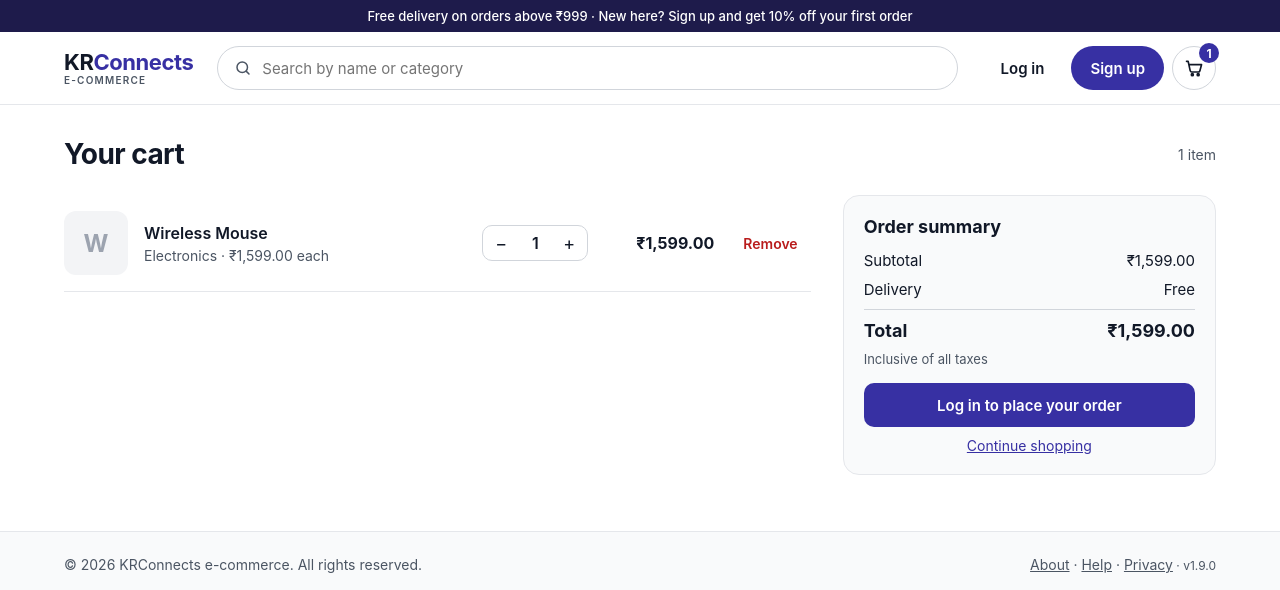
CartPage › + and − change the quantity and the cart count
Expected: the heading "Your cart" is shown, [64,137,184,171]
Click the button named "Increase Wireless Mouse" at (569, 243), box [551,226,587,260]
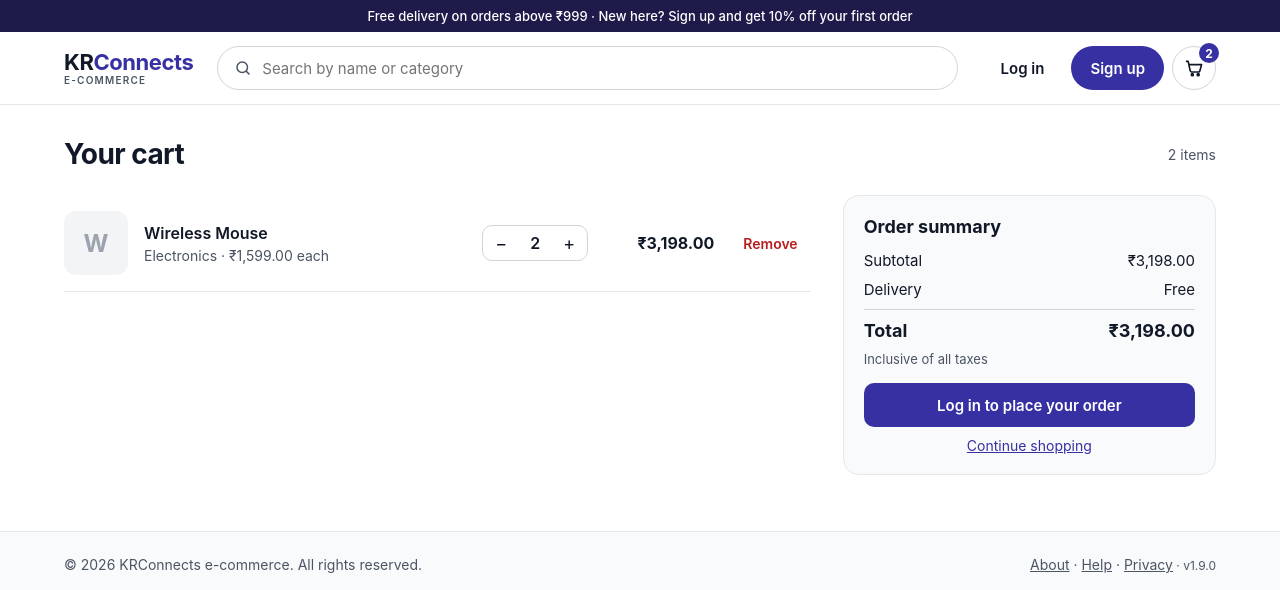
Result: the link named "Cart, 2 items" is shown at [1172,46,1216,90]
Click the button named "Decrease Wireless Mouse" at (501, 243), box [483,226,519,260]
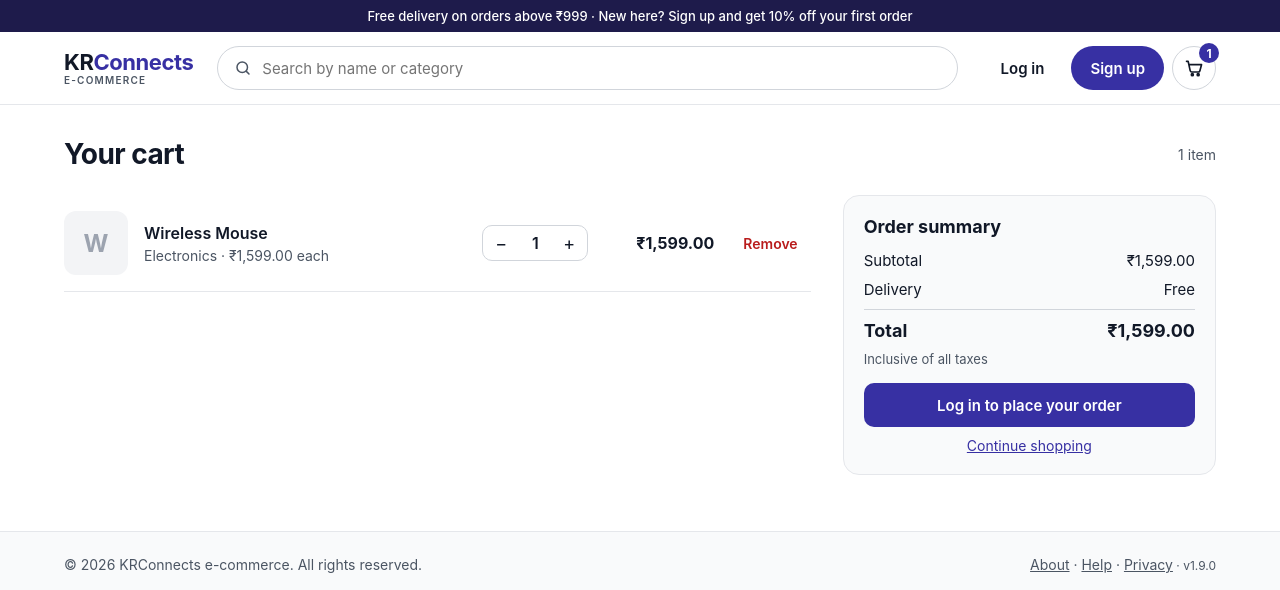
Result: the link named "Cart, 1 items" is shown at [1172,46,1216,90]
